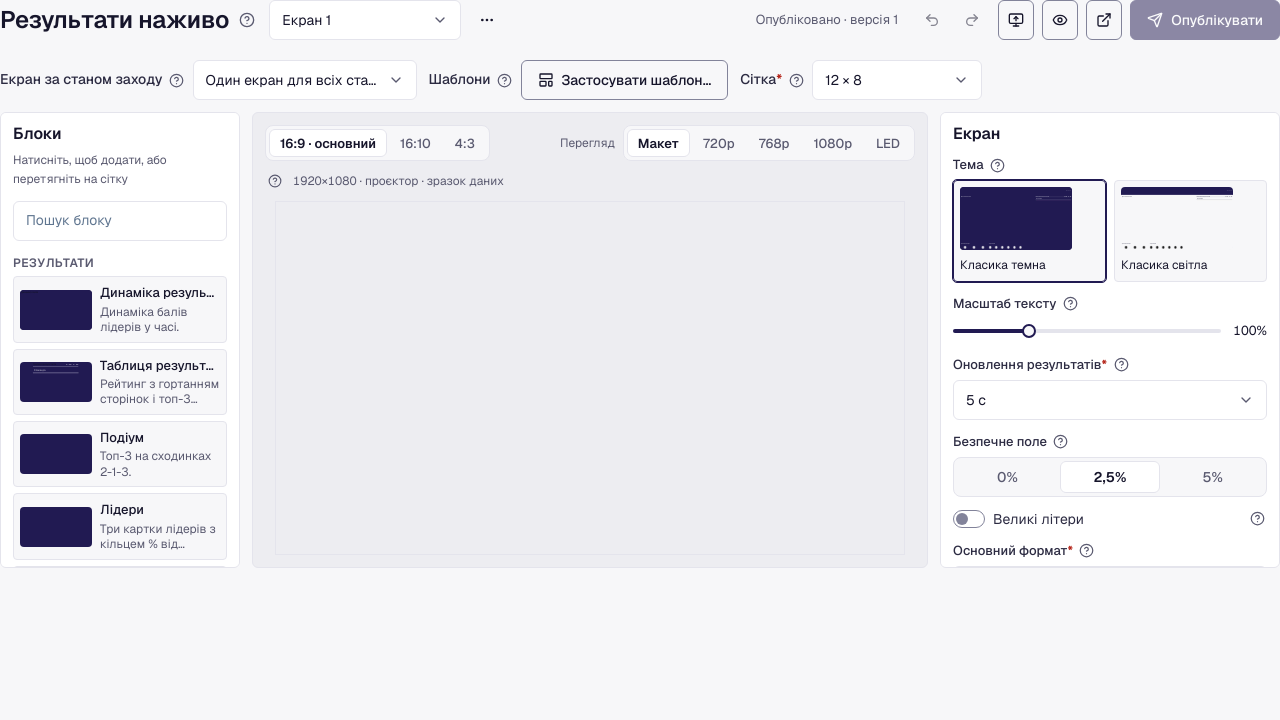
it: live editor › previews other screen shapes automatically and lets a shape get its own layout
This screenshot has width=1280, height=720.
Click the tab "4:3". click: (465, 143)
box: top-left (444, 129), bottom-right (486, 157)
(page scrolled)
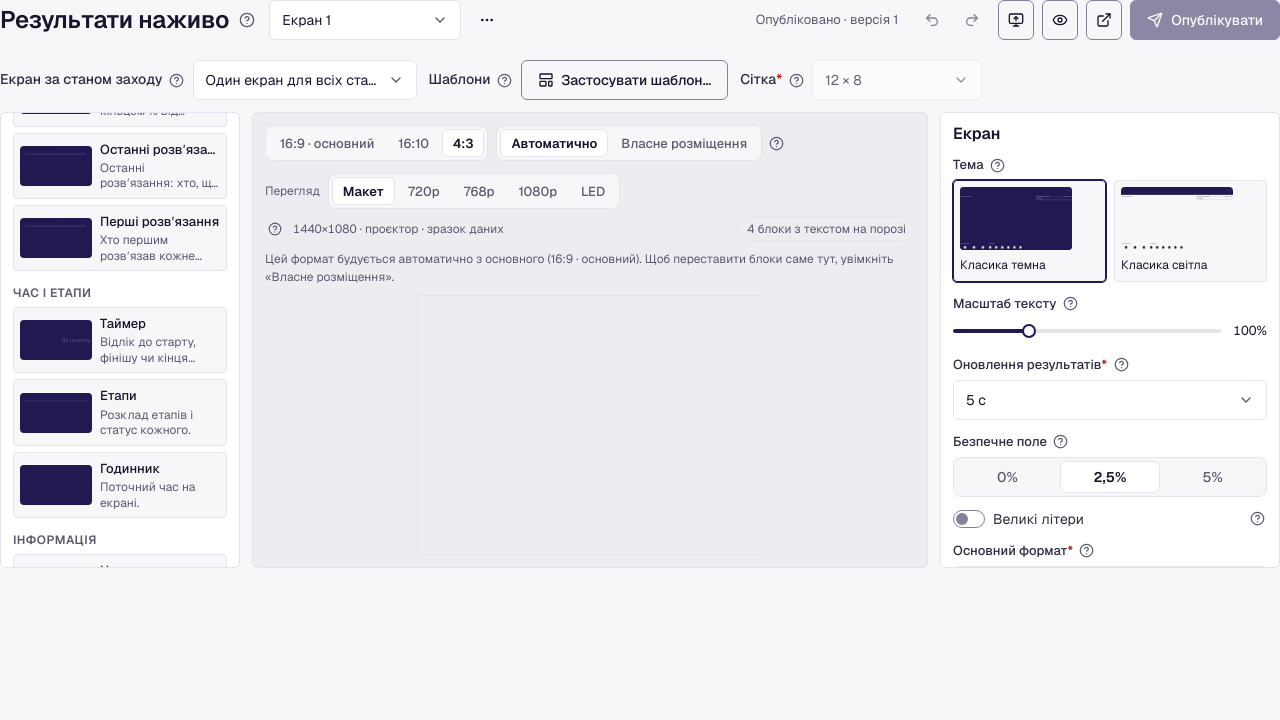
Now the text "1440×1080 · проєктор · зразок даних" is shown, box top-left (293, 220), bottom-right (504, 239)
Now the text "будується автоматично з основного" is shown, box top-left (265, 251), bottom-right (894, 285)
Click the button "До початку Таймер Відлік до старту, фінішу чи кінця етапу.". click: (120, 340)
box: top-left (13, 307), bottom-right (227, 373)
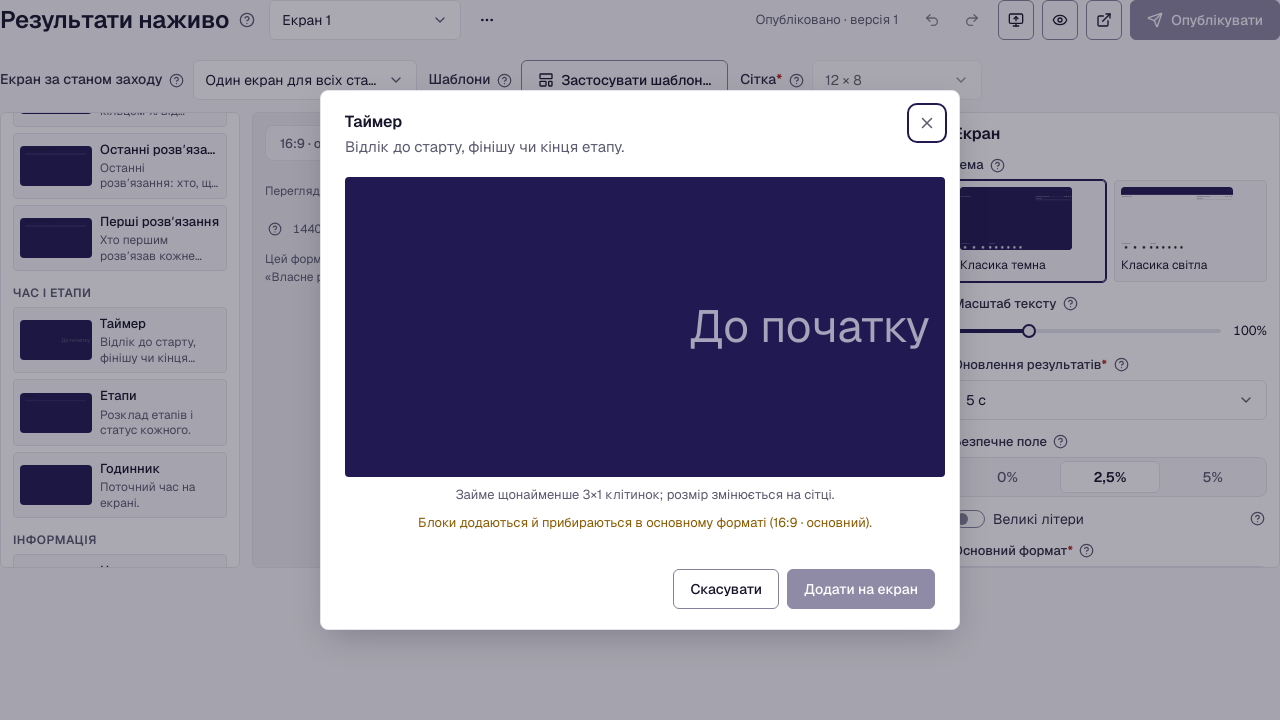
Now the button "Додати на екран" is disabled, box top-left (787, 569), bottom-right (935, 609)
Click the button "Скасувати". click: (726, 589)
box: top-left (674, 569), bottom-right (779, 609)
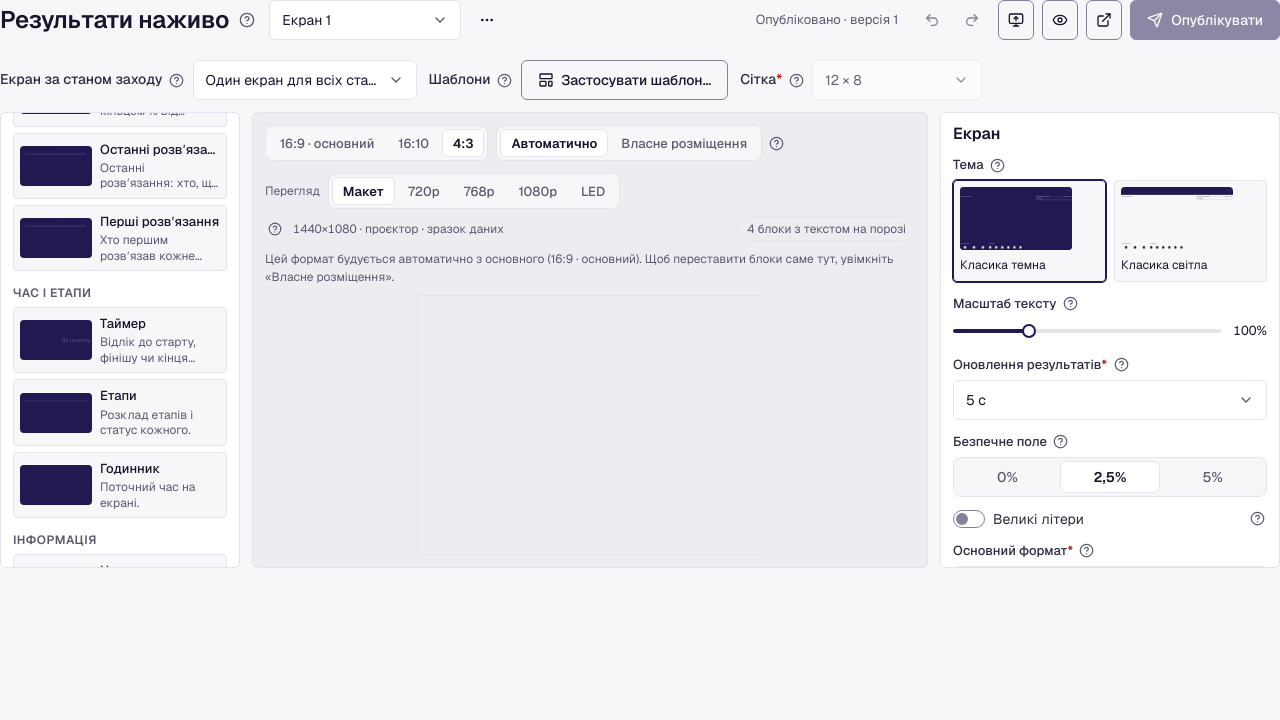
Click the button "Власне розміщення". click: (684, 143)
box: top-left (610, 129), bottom-right (758, 157)
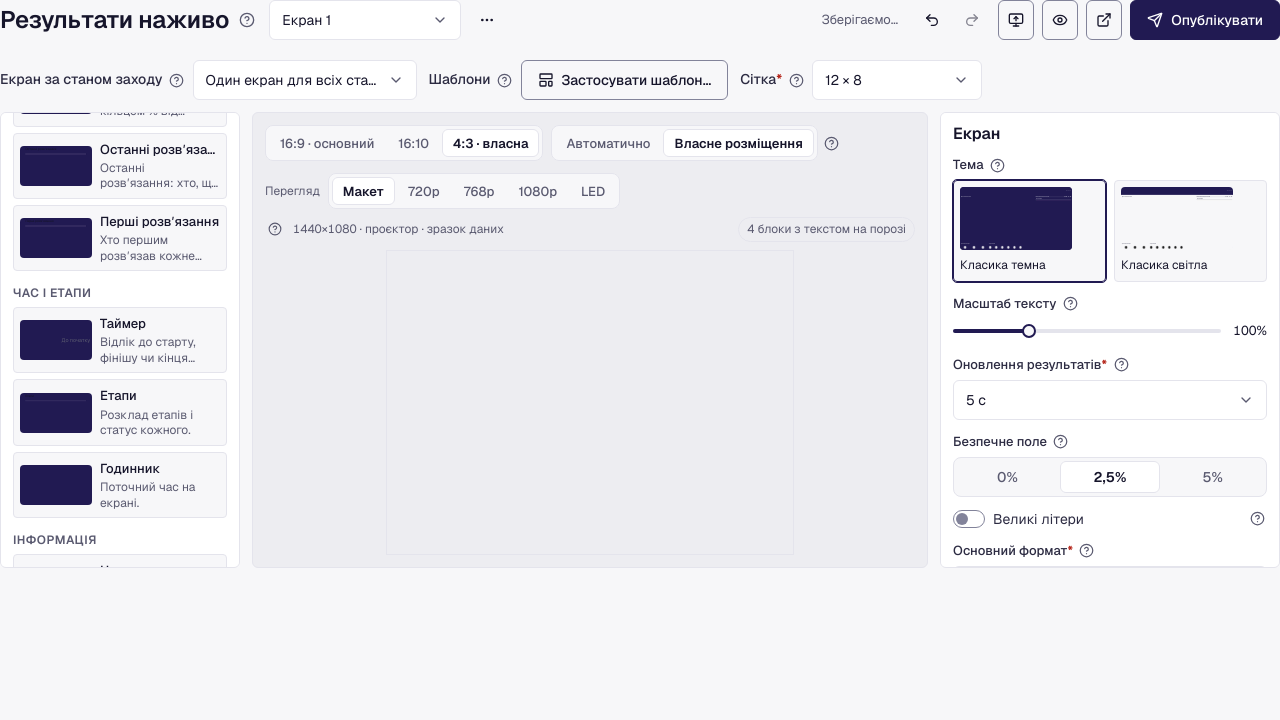
Now the tab "4:3 · власна" is shown, box top-left (442, 129), bottom-right (540, 157)
Now the text "будується автоматично з основного" is gone
Click the tab "16:9 · основний". click: (327, 143)
box: top-left (269, 129), bottom-right (385, 157)
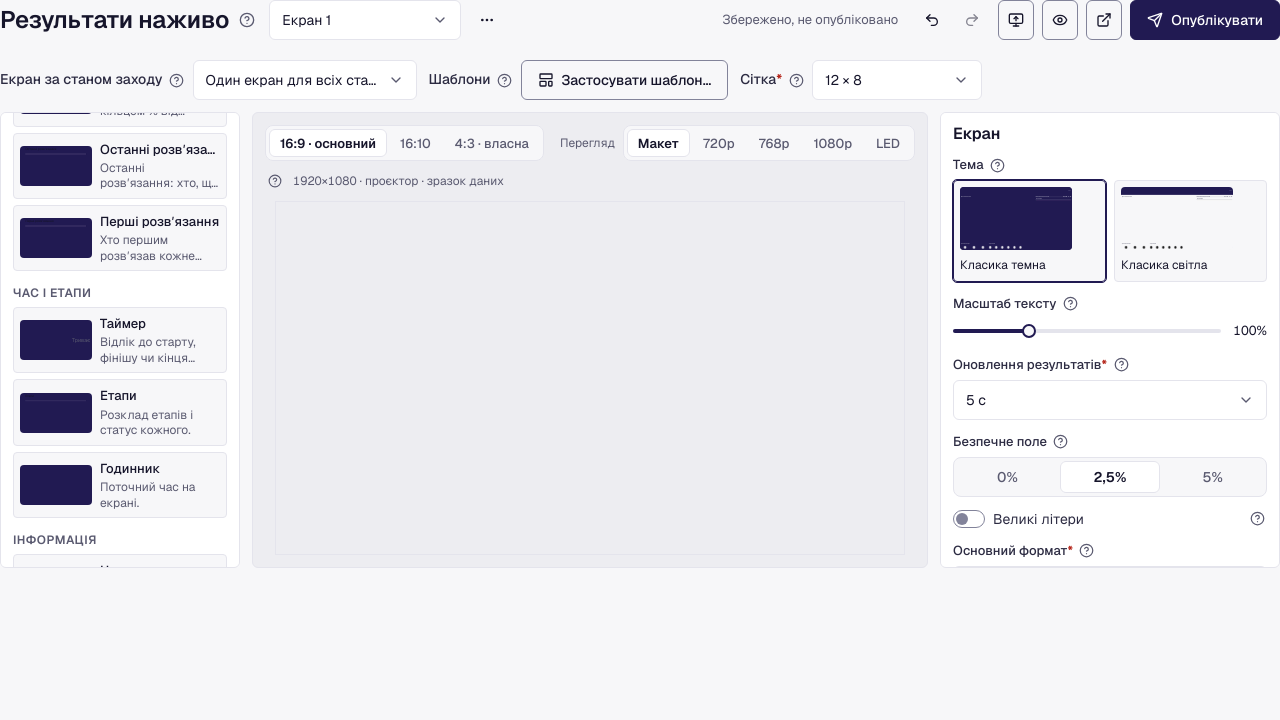
Now the text "1920×1080 · проєктор · зразок даних" is shown, box top-left (293, 172), bottom-right (504, 190)
